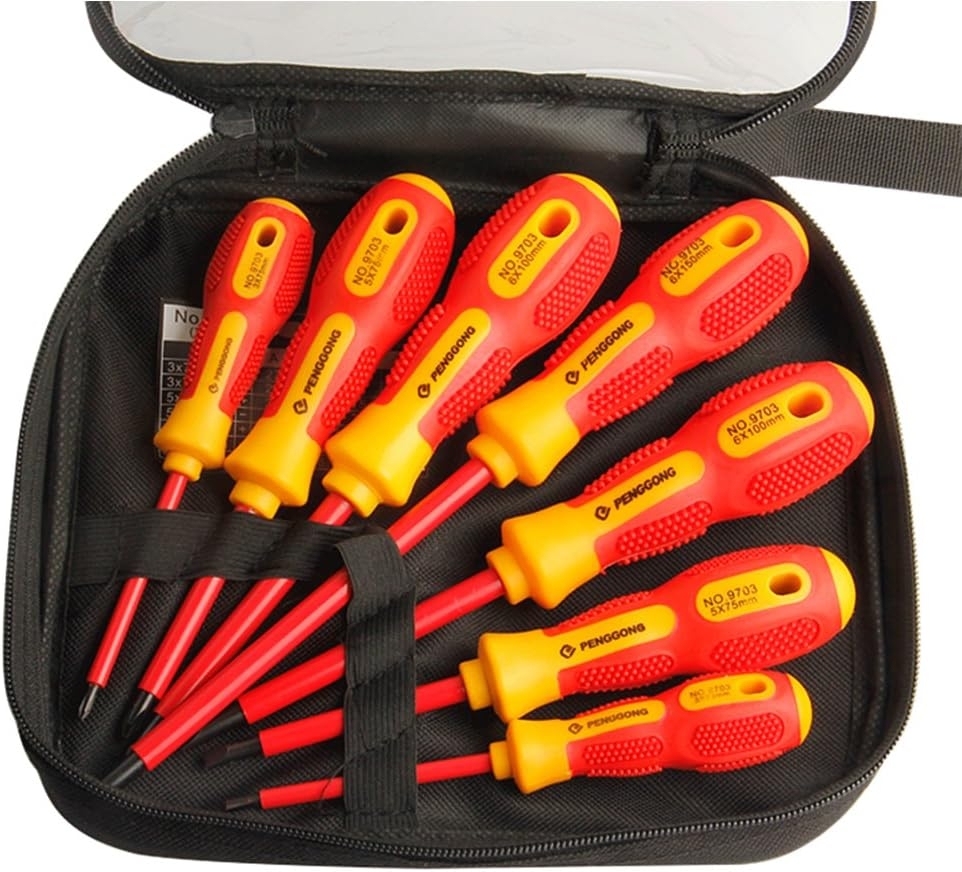screwdriver: (98, 197, 813, 796), (133, 170, 623, 748), (192, 359, 878, 749), (124, 171, 458, 725), (204, 544, 859, 767), (70, 197, 317, 727), (190, 668, 819, 814)
